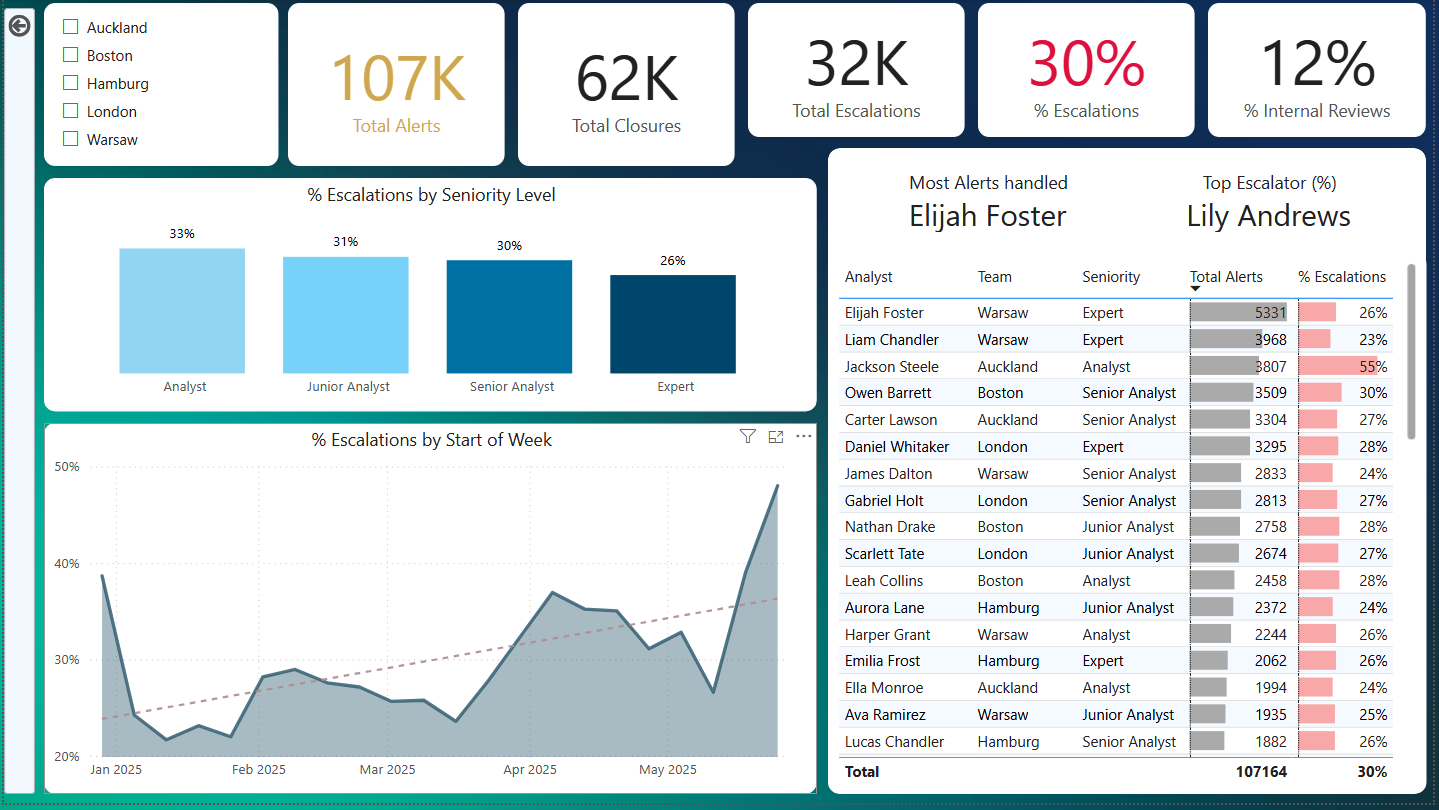

The page's visual inventory and layout, read from the dashboard file:
{"tool":"powerbi","page":{"name":"ANALYST","canvas":[1280,720],"ordinal":2},"visuals":[{"type":"shape","box":[737.9,133.4,535.5,578.5],"z":0},{"type":"tableEx","fields":{"Values":["Alerts.Analyst Name","Analyst Lookup Table.Analyst Team","Analyst Lookup Table.Seniority Level","Measures Table.TOTAL ALERTS","Measures Table.% Escalations"]},"box":[737.9,227.5,535.5,484.5],"z":1000},{"type":"card","title":"Most Alerts handled","fields":{"Values":["Alerts.Analyst Name"]},"box":[755.8,149.6,249.9,68.1],"z":2000},{"type":"clusteredColumnChart","fields":{"Category":["Analyst Lookup Table.Seniority Level"],"Y":["Measures Table.% Escalations"]},"box":[36,160,692,209],"z":3000},{"type":"card","title":"Auckland","fields":{"Values":["Measures Table.TOTAL ALERTS"]},"box":[254.3,3.6,194.3,146],"z":4000},{"type":"card","title":"Boston","fields":{"Values":["Measures Table.TOTAL Closures"]},"box":[460.3,3.6,194.3,146],"z":5000},{"type":"card","title":"Hamburg","fields":{"Values":["Measures Table.TOTAL Escalations"]},"box":[666.3,3.6,194.3,120],"z":6000},{"type":"card","title":"London","fields":{"Values":["Measures Table.% Escalations"]},"box":[872.2,3.6,194.3,120],"z":7000},{"type":"card","title":"Warsaw","fields":{"Values":["Measures Table.% Internal Reviews"]},"box":[1078.2,3.6,195.2,120],"z":8000},{"type":"slicer","fields":{"Values":["Analyst Lookup Table.Analyst Team"]},"box":[35.8,3.6,209.6,146],"z":9000},{"type":"areaChart","fields":{"Category":["Calendar Lookup Table.Start of Week"],"Y":["Measures Table.% Escalations"]},"box":[36,380,692,332],"z":10000},{"type":"card","title":"Top Escalator (%)","fields":{"Values":["Alerts.Analyst Name"]},"box":[1005.7,149.6,253.4,68.1],"z":11000},{"type":"shape","box":[0,8.1,27.8,703.9],"z":12000},{"type":"actionButton","box":[0,8.1,27.8,32.2],"z":13000}]}

Visuals, with their boxes in screenshot pixels (x1, y1, x2, y2), scaled from the page's 1280x720 canvas onto the 1439x810 screenshot:
shape: x1=830 y1=150 x2=1432 y2=801
tableEx - Alerts.Analyst Name x Analyst Lookup Table.Analyst Team: x1=830 y1=256 x2=1432 y2=801
"Most Alerts handled" card: x1=850 y1=168 x2=1131 y2=245
clusteredColumnChart - Analyst Lookup Table.Seniority Level x Measures Table.% Escalations: x1=40 y1=180 x2=818 y2=415
"Auckland" card: x1=286 y1=4 x2=504 y2=168
"Boston" card: x1=517 y1=4 x2=736 y2=168
"Hamburg" card: x1=749 y1=4 x2=968 y2=139
"London" card: x1=981 y1=4 x2=1199 y2=139
"Warsaw" card: x1=1212 y1=4 x2=1432 y2=139
slicer - Analyst Lookup Table.Analyst Team: x1=40 y1=4 x2=276 y2=168
areaChart - Calendar Lookup Table.Start of Week x Measures Table.% Escalations: x1=40 y1=428 x2=818 y2=801
"Top Escalator (%)" card: x1=1131 y1=168 x2=1416 y2=245
shape: x1=0 y1=9 x2=31 y2=801
actionButton: x1=0 y1=9 x2=31 y2=45
